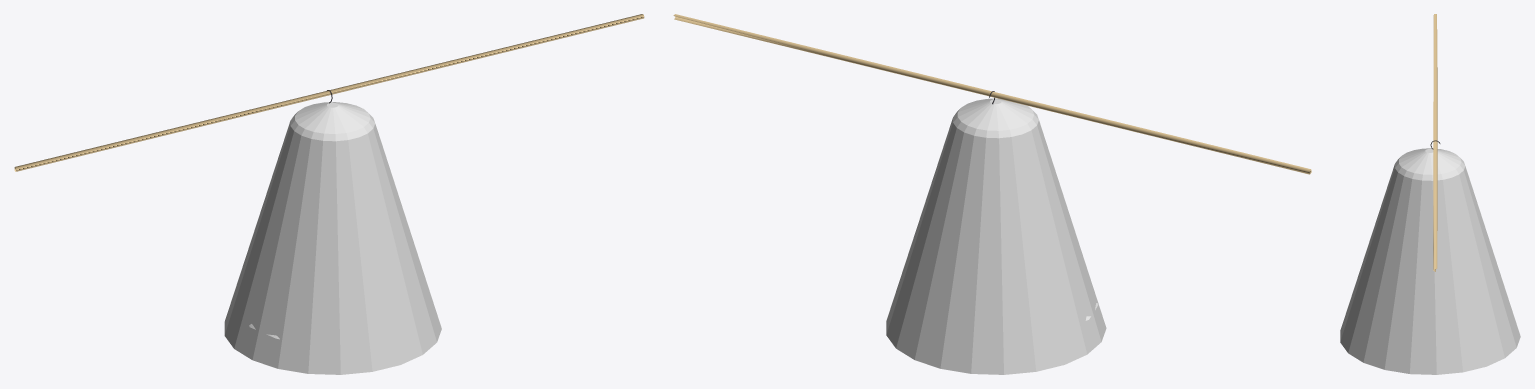
File: firefirefire_dress_white.fbx
3 renders of one model, left to right at view 1: azimuth 30°, elevation 25°; view 2: azimuth 150°, elevation 25°; view 3: azimuth 270°, elevation 25°, orthographic. The views are drawn at different scales.
Visible parts, largest first — view 1: contour, stick hanger; view 2: contour, stick hanger; view 3: contour, stick hanger.
Boxes of the visible parts, x1=… form: contour: x1=224, y1=102, x2=441, y2=374; stick hanger: x1=14, y1=14, x2=644, y2=171; contour: x1=886, y1=98, x2=1106, y2=374; stick hanger: x1=673, y1=14, x2=1311, y2=174; contour: x1=1340, y1=148, x2=1520, y2=374; stick hanger: x1=1433, y1=14, x2=1437, y2=271.
Bounding box in the file's own units: 2687 × 977 × 806.
